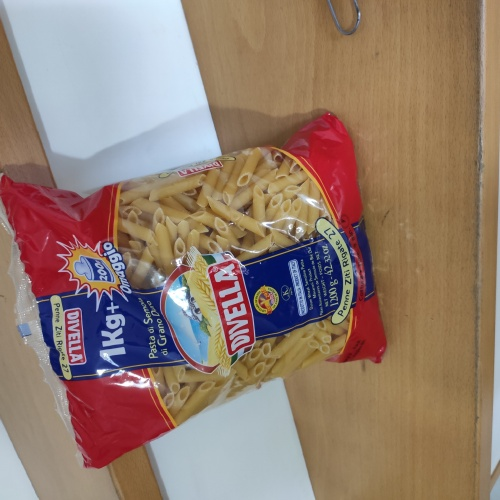pasta: (42, 196, 375, 393)
